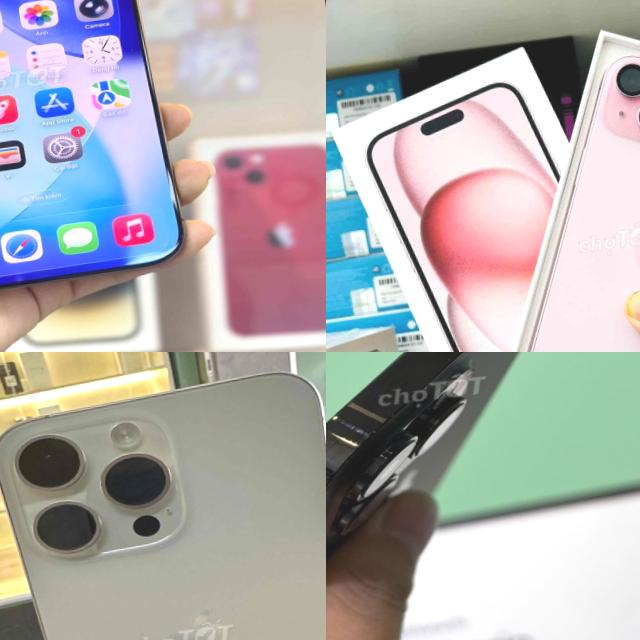gen_12_13: (466, 21, 640, 352)
gen_14: (326, 352, 517, 554)
gen_15: (0, 366, 326, 640)
gen_16: (0, 0, 203, 314)
